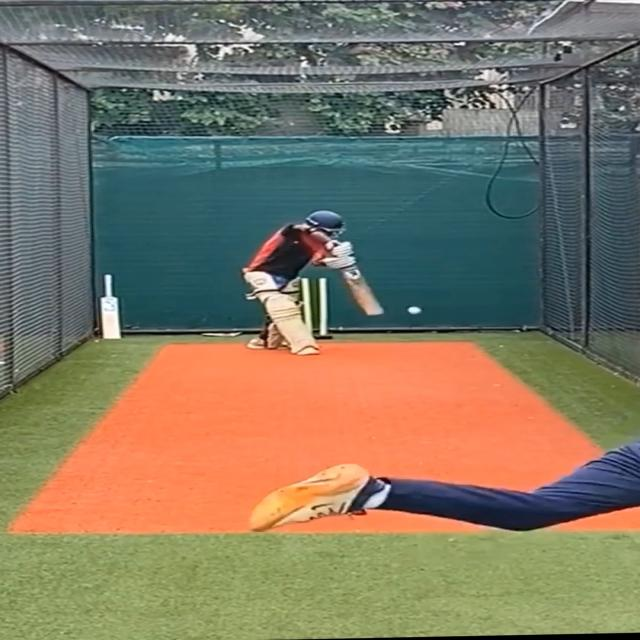ball: (404, 304, 422, 316)
stump: (302, 278, 332, 339)
